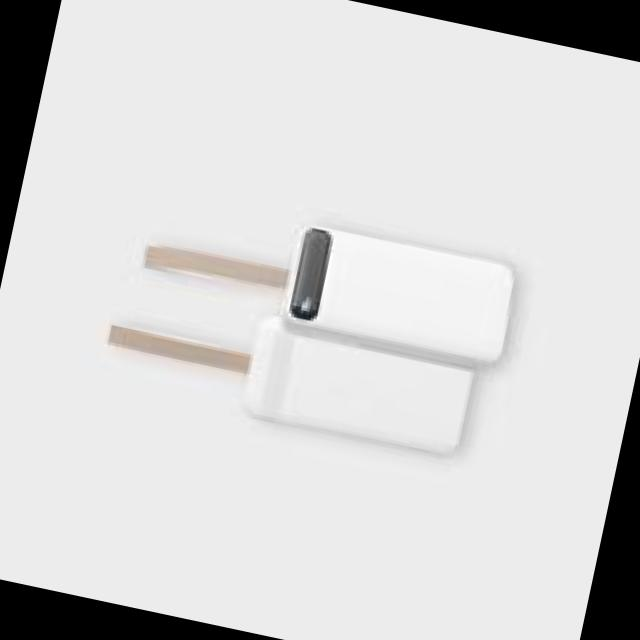portable-charger: (273, 215, 527, 381), (232, 314, 483, 464)
